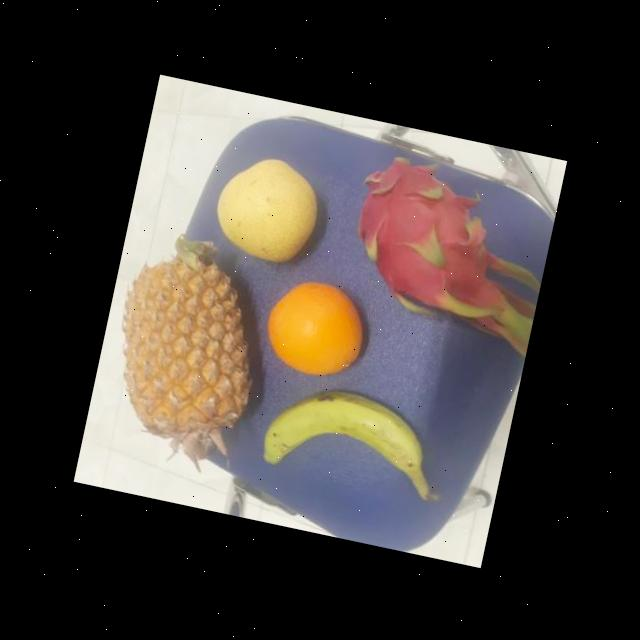banana: (262, 371, 438, 494)
guava: (208, 143, 329, 266), (259, 268, 375, 382)
pear: (209, 144, 329, 270)
pineapple: (100, 232, 280, 458)
pitaya: (340, 145, 512, 329)
